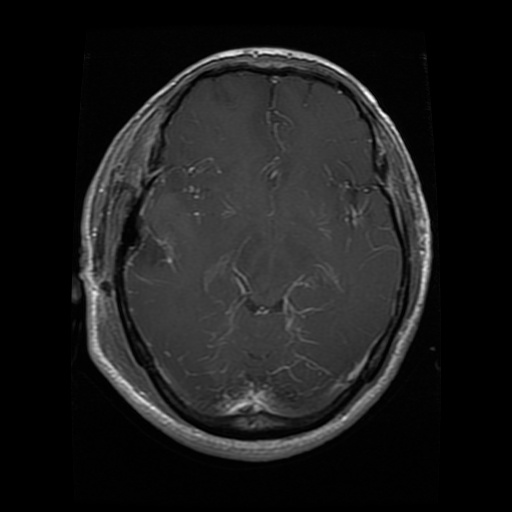glioma: (128, 189, 202, 283)
